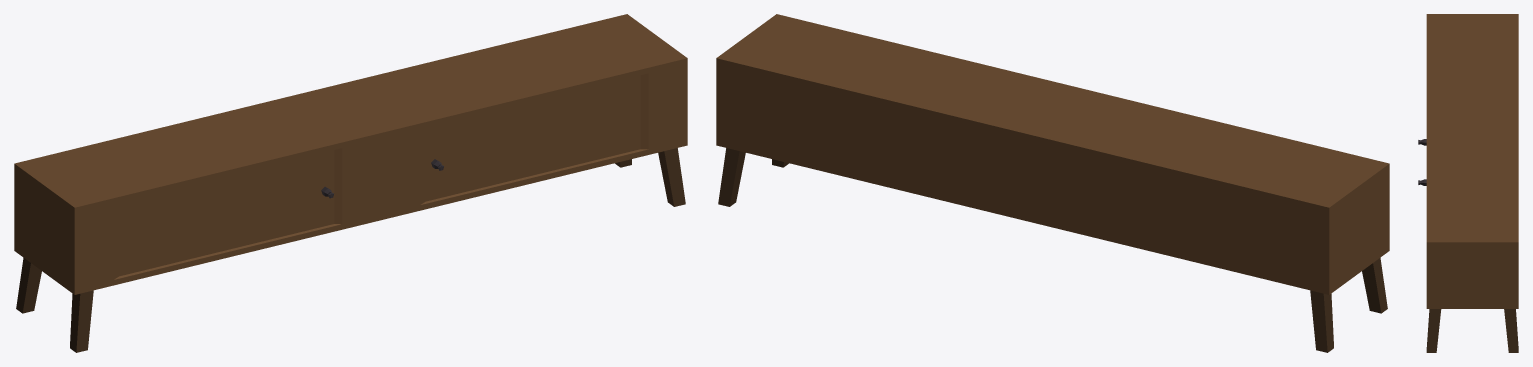
File: Casem.fbx
3 views of the same model, side by side, from view 1: azimuth 30°, elevation 25°; view 2: azimuth 150°, elevation 25°; view 3: azimuth 270°, elevation 25° (orthographic). The views are drawn at different scales.
Visible parts, largest first — view 1: Cube.002; view 2: Cube.002; view 3: Cube.002.
Boxes of the visible parts, bbox=[...] form: Cube.002: bbox=[14, 14, 687, 352]; Cube.002: bbox=[716, 14, 1389, 352]; Cube.002: bbox=[1418, 14, 1518, 352].
Size of the model in its own units: 1172 by 266 by 218.
